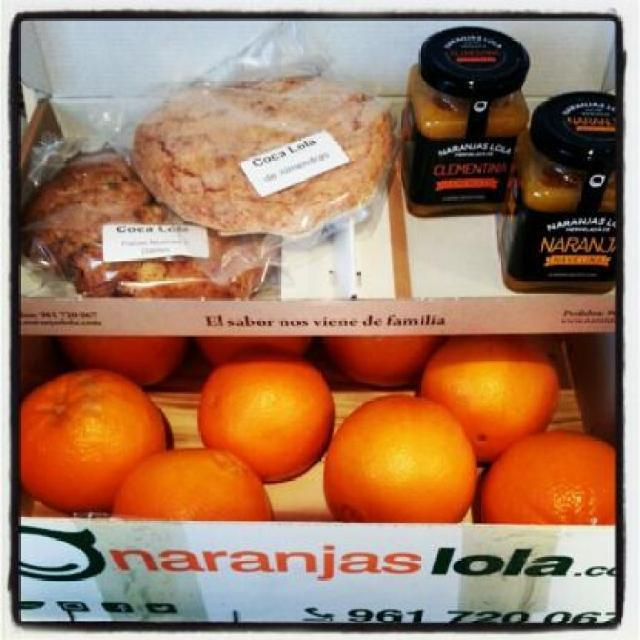Orange: (322, 396, 484, 527), (15, 370, 166, 508), (418, 333, 560, 459), (194, 356, 340, 478), (482, 434, 622, 526), (117, 448, 274, 520), (326, 332, 442, 384), (65, 338, 173, 382), (193, 331, 304, 363)
